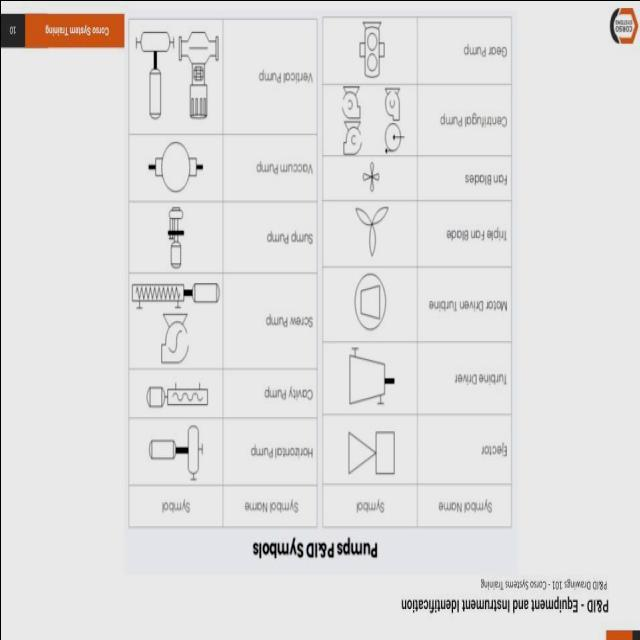Cavity Pump: (141, 374, 213, 416)
Centrifugal Pump: (330, 79, 368, 121), (333, 114, 365, 162), (374, 79, 404, 121), (378, 120, 403, 152)
Ejector: (340, 422, 398, 482)
Fan Blades: (354, 158, 384, 194)
Gear Pump: (348, 15, 402, 83)
Horizontal Pump: (144, 422, 215, 483)
Motor Driven Turbine: (342, 268, 400, 338)
Screw Pump: (127, 276, 220, 316), (153, 310, 201, 370)
Sump Pump: (160, 202, 191, 270)
Triple Fan Blade: (344, 200, 394, 264)
Turbine Driver: (338, 342, 404, 411)
Vaccum Pump: (134, 140, 213, 192)
Vertical Pump: (126, 18, 178, 132), (173, 20, 219, 128)
